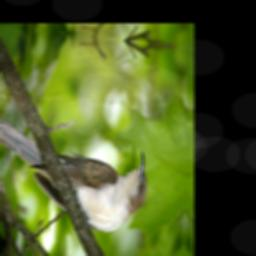Cuckoo: (0, 114, 151, 241)
